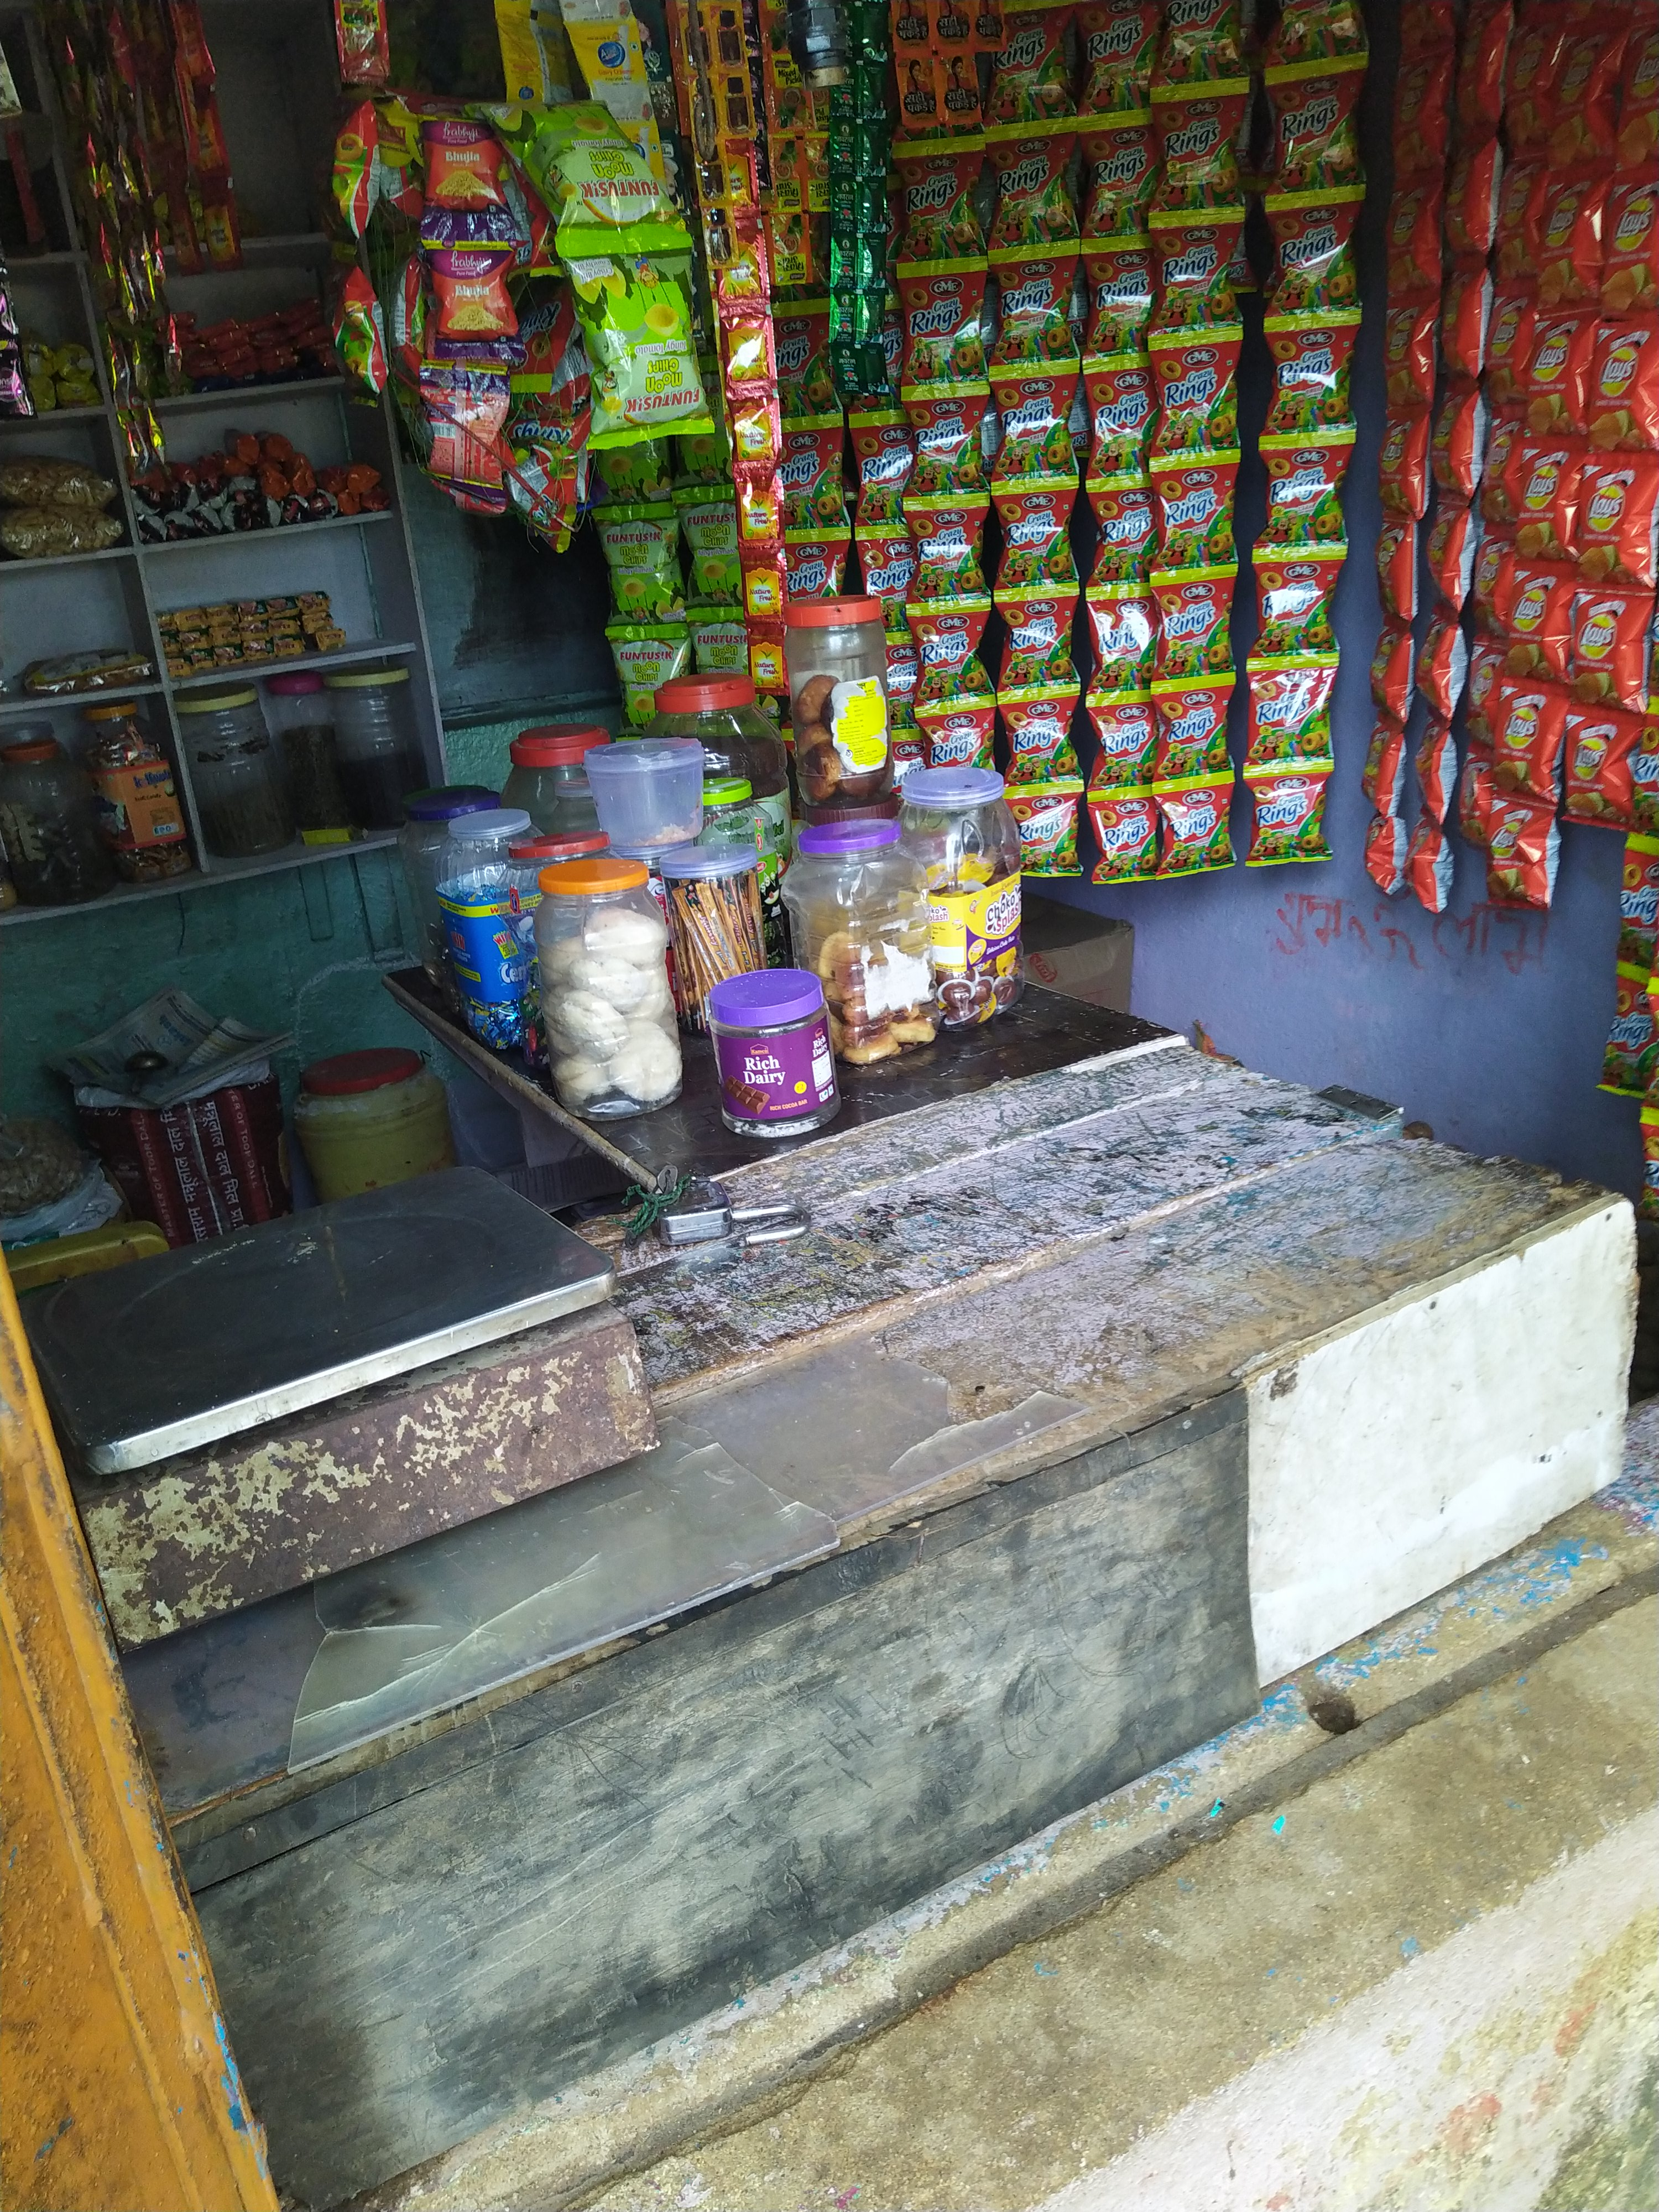food: (769, 439, 1349, 895), (1356, 435, 1659, 1231), (587, 432, 784, 751), (528, 852, 681, 1130), (781, 820, 946, 1076), (901, 765, 1028, 1047), (429, 803, 540, 1059), (774, 590, 901, 812), (132, 442, 389, 542), (145, 566, 350, 683), (73, 702, 199, 890), (657, 840, 772, 1043), (410, 437, 601, 557), (173, 681, 293, 864), (0, 733, 112, 911), (326, 664, 432, 838), (0, 449, 125, 564), (265, 671, 349, 843), (17, 637, 159, 697)
